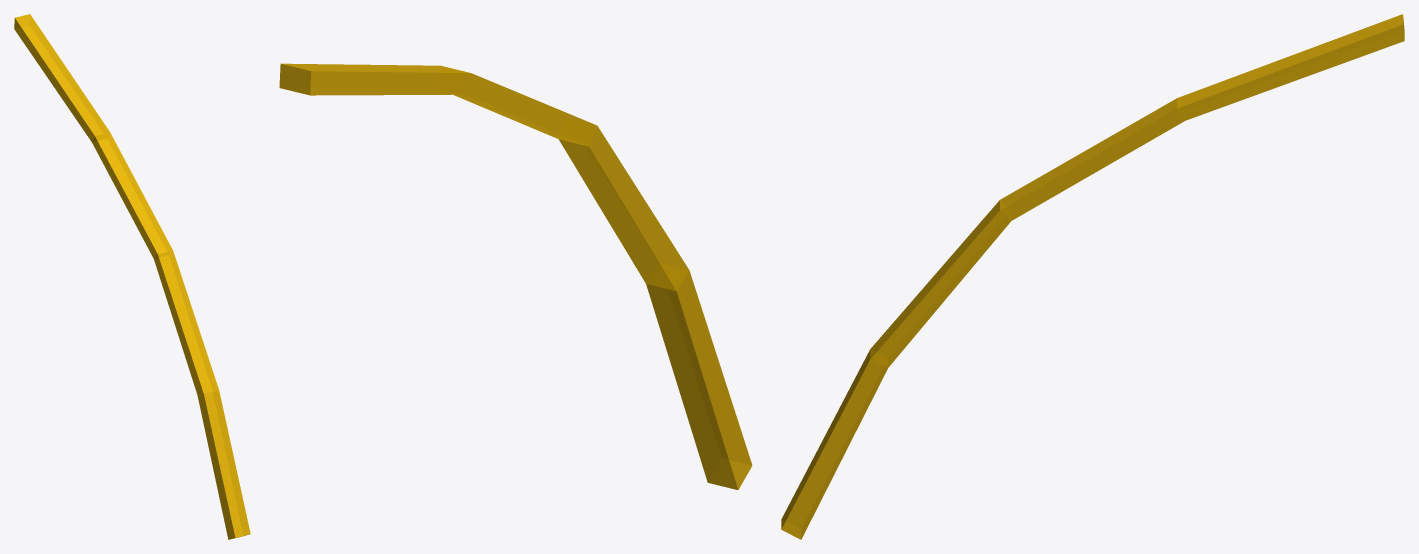
The model's file is SM_Bld_Roof_Dome_L_End_01_Collision.fbx.
The picture shows the model from 3 angles, left to right: view 1: azimuth 30°, elevation 25°; view 2: azimuth 150°, elevation 25°; view 3: azimuth 270°, elevation 25°; orthographic projection. The views are drawn at different scales.
Parts seen in each view (by area): view 1: SM_Bld_Roof_Dome_L_End_01_Collision; view 2: SM_Bld_Roof_Dome_L_End_01_Collision; view 3: SM_Bld_Roof_Dome_L_End_01_Collision.
Boxes of the visible parts, left/top/right/bottom form: SM_Bld_Roof_Dome_L_End_01_Collision: left=14, top=14, right=250, bottom=539; SM_Bld_Roof_Dome_L_End_01_Collision: left=279, top=63, right=752, bottom=489; SM_Bld_Roof_Dome_L_End_01_Collision: left=781, top=14, right=1404, bottom=539.
Size of the model in its own units: 20.62 by 470 by 515.
